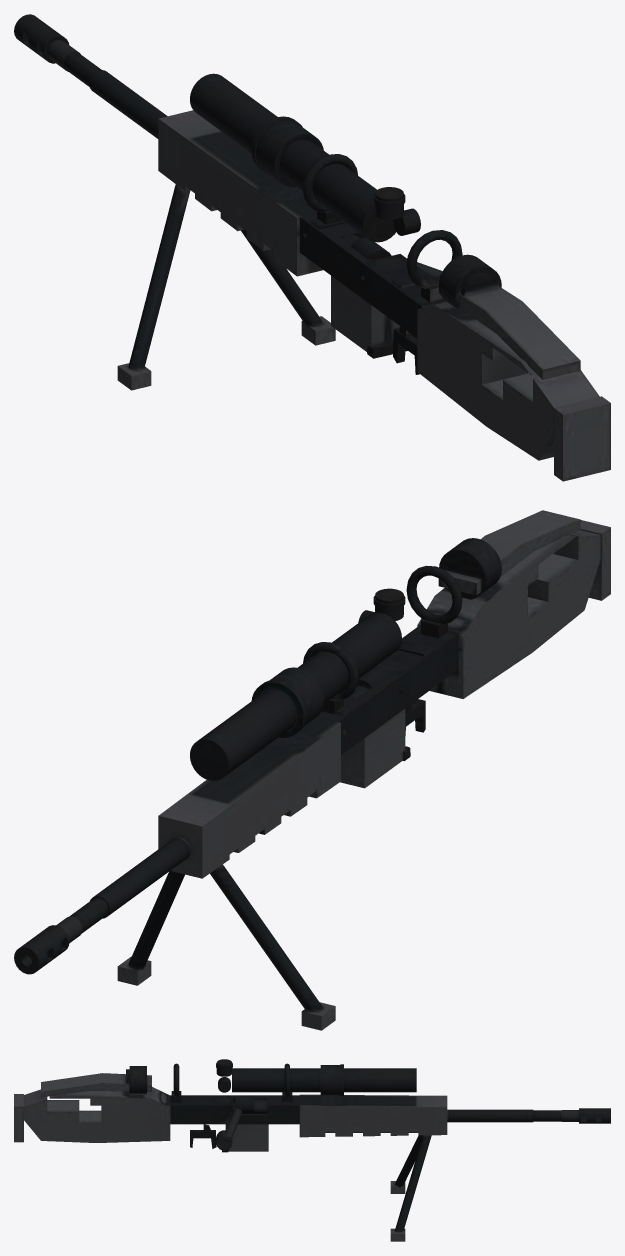
The model's file is W_rifle_bolt.glb.
3 views of the same model, one above another, from view 1: azimuth 30°, elevation 25°; view 2: azimuth 150°, elevation 25°; view 3: azimuth 270°, elevation 25° (orthographic). The views are drawn at different scales.
Visible parts, largest first — view 1: W_rifle_bolt; view 2: W_rifle_bolt; view 3: W_rifle_bolt.
Boxes of the visible parts, x1=… form: W_rifle_bolt: x1=14, y1=14, x2=610, y2=481; W_rifle_bolt: x1=14, y1=510, x2=610, y2=1030; W_rifle_bolt: x1=14, y1=1059, x2=610, y2=1241.
Bounding box in the file's own units: 0.204 × 0.274 × 0.97.
Materials: 1 (1 with a texture image).
